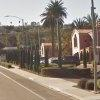Palm tree: (33, 1, 70, 65)
